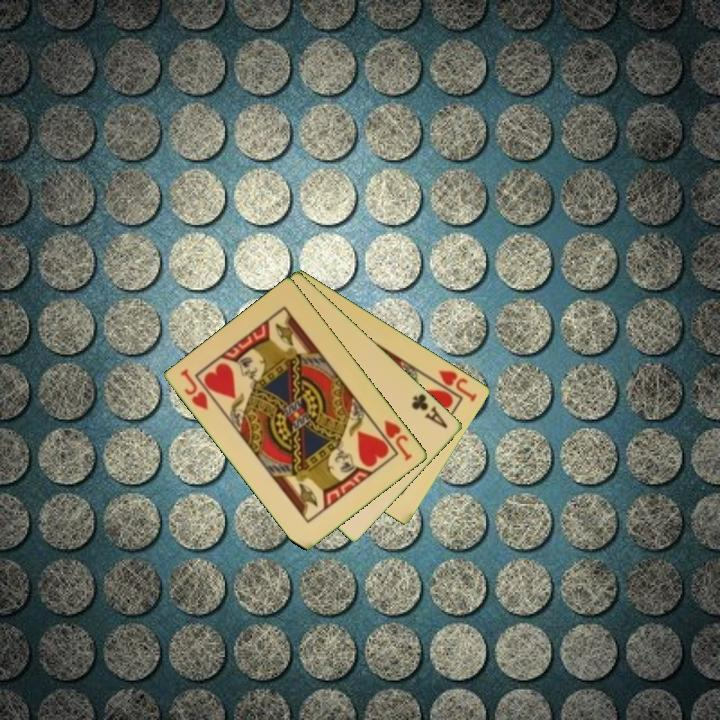Ac: (408, 390, 451, 431)
Jh: (372, 416, 416, 464), (435, 366, 480, 405), (177, 365, 212, 413)
